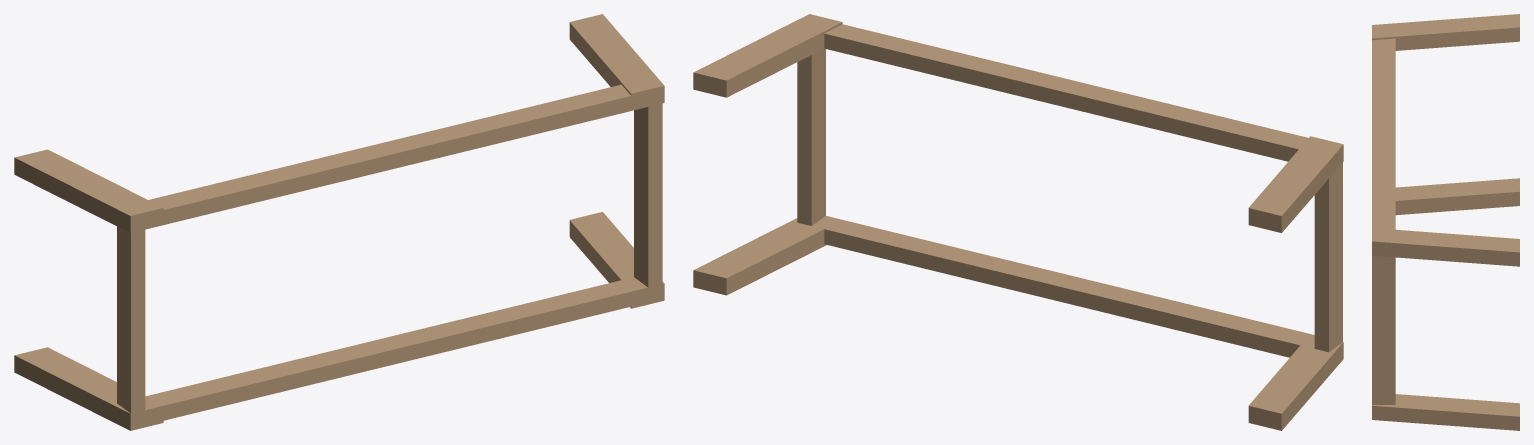
File: table_frame.fbx
The picture shows the model from 3 angles, left to right: view 1: azimuth 30°, elevation 25°; view 2: azimuth 150°, elevation 25°; view 3: azimuth 270°, elevation 25°; orthographic projection. The views are drawn at different scales.
Parts seen in each view (by area): view 1: Body1 (×8); view 2: Body1 (×8); view 3: Body1 (×6).
Part boxes in pixels (x1,y1,x2,y2): Body1 (×8): [14, 14, 664, 430]; Body1 (×8): [693, 14, 1343, 430]; Body1 (×6): [1372, 14, 1519, 430].
Size of the model in its own units: 35.92 by 12.54 by 9.41.
